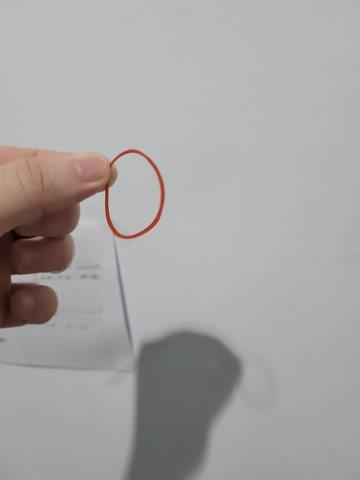karet: (104, 148, 166, 240)
